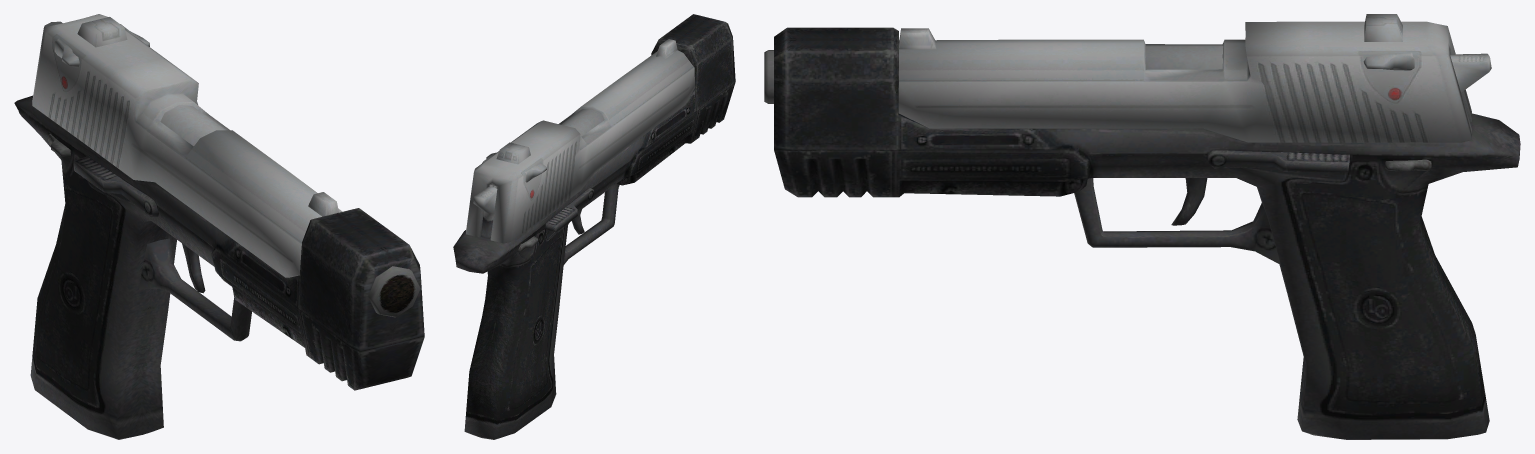
Rendered from Pistol.obj.
3 views of the same model, side by side, from view 1: azimuth 30°, elevation 25°; view 2: azimuth 150°, elevation 25°; view 3: azimuth 270°, elevation 25° (orthographic). The views are drawn at different scales.
Visible parts, largest first — view 1: pistol; view 2: pistol; view 3: pistol.
Boxes of the visible parts, x1=… form: pistol: x1=14, y1=14, x2=424, y2=439; pistol: x1=453, y1=14, x2=735, y2=439; pistol: x1=764, y1=14, x2=1520, y2=439.
Size of the model in its own units: 0.0919 by 0.3729 by 0.63.
Materials: 1 (1 with a texture image).
